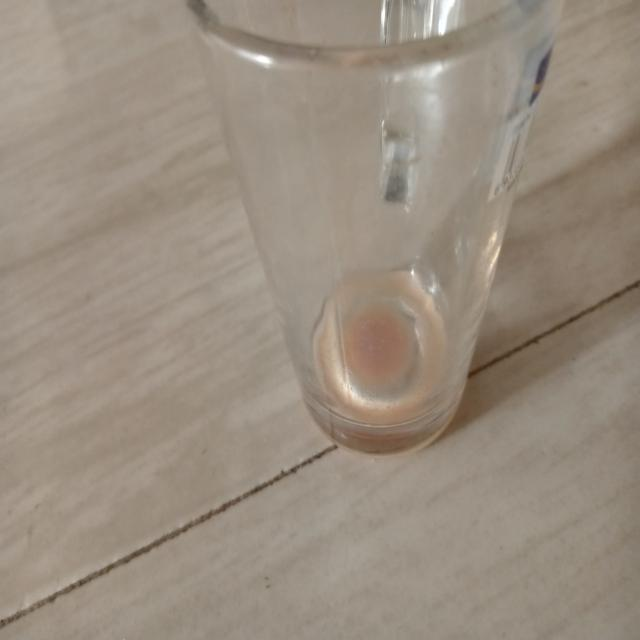glass-VX4N: (178, 0, 568, 460)
